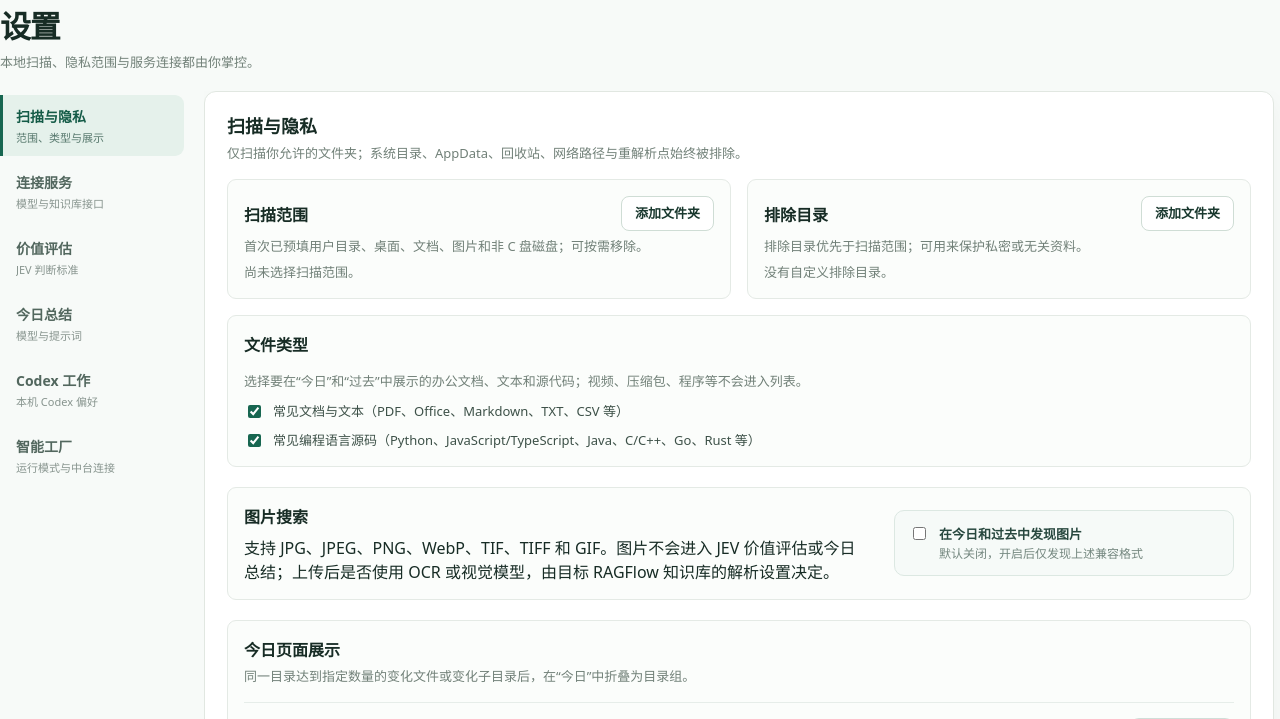
Scenario: SettingsPage › adds a folder selected from the system picker to the scan roots
Step 1. Click the 1st button "添加文件夹" → coordinates (668, 214), box 621,196 -> 714,231
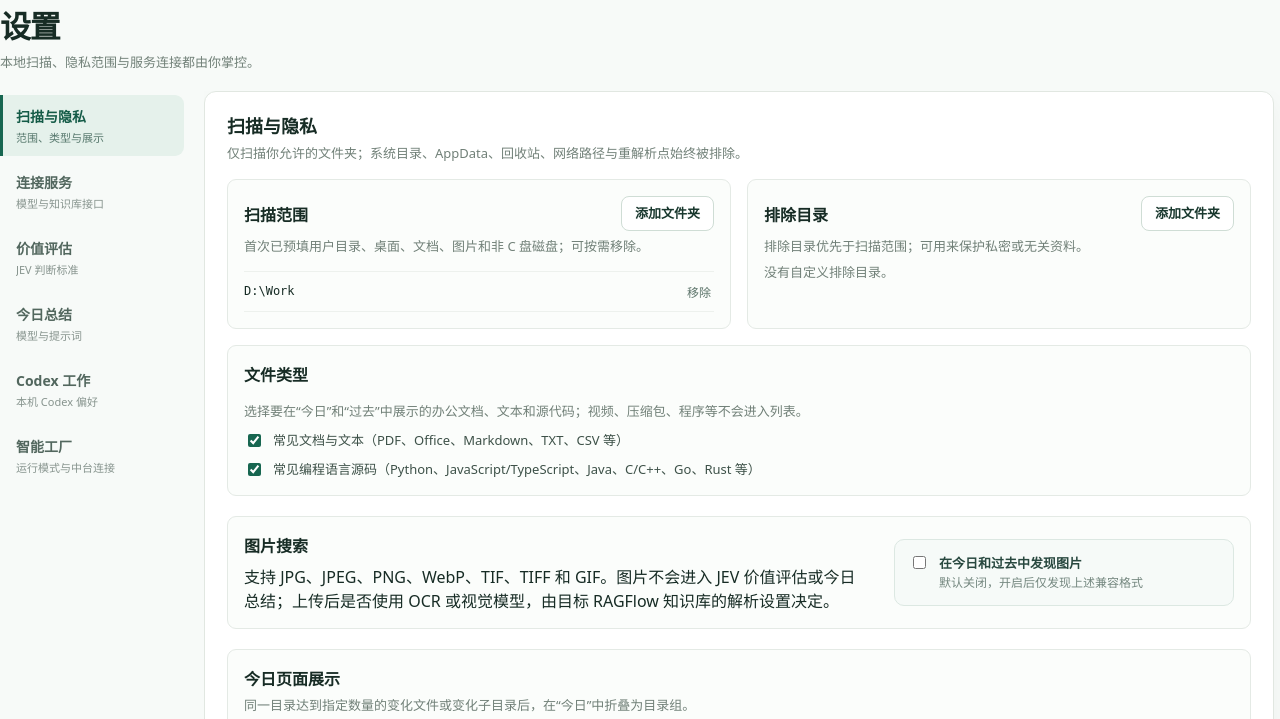
Expected: the text "D:\\Work" is shown, 244,284 -> 295,298
